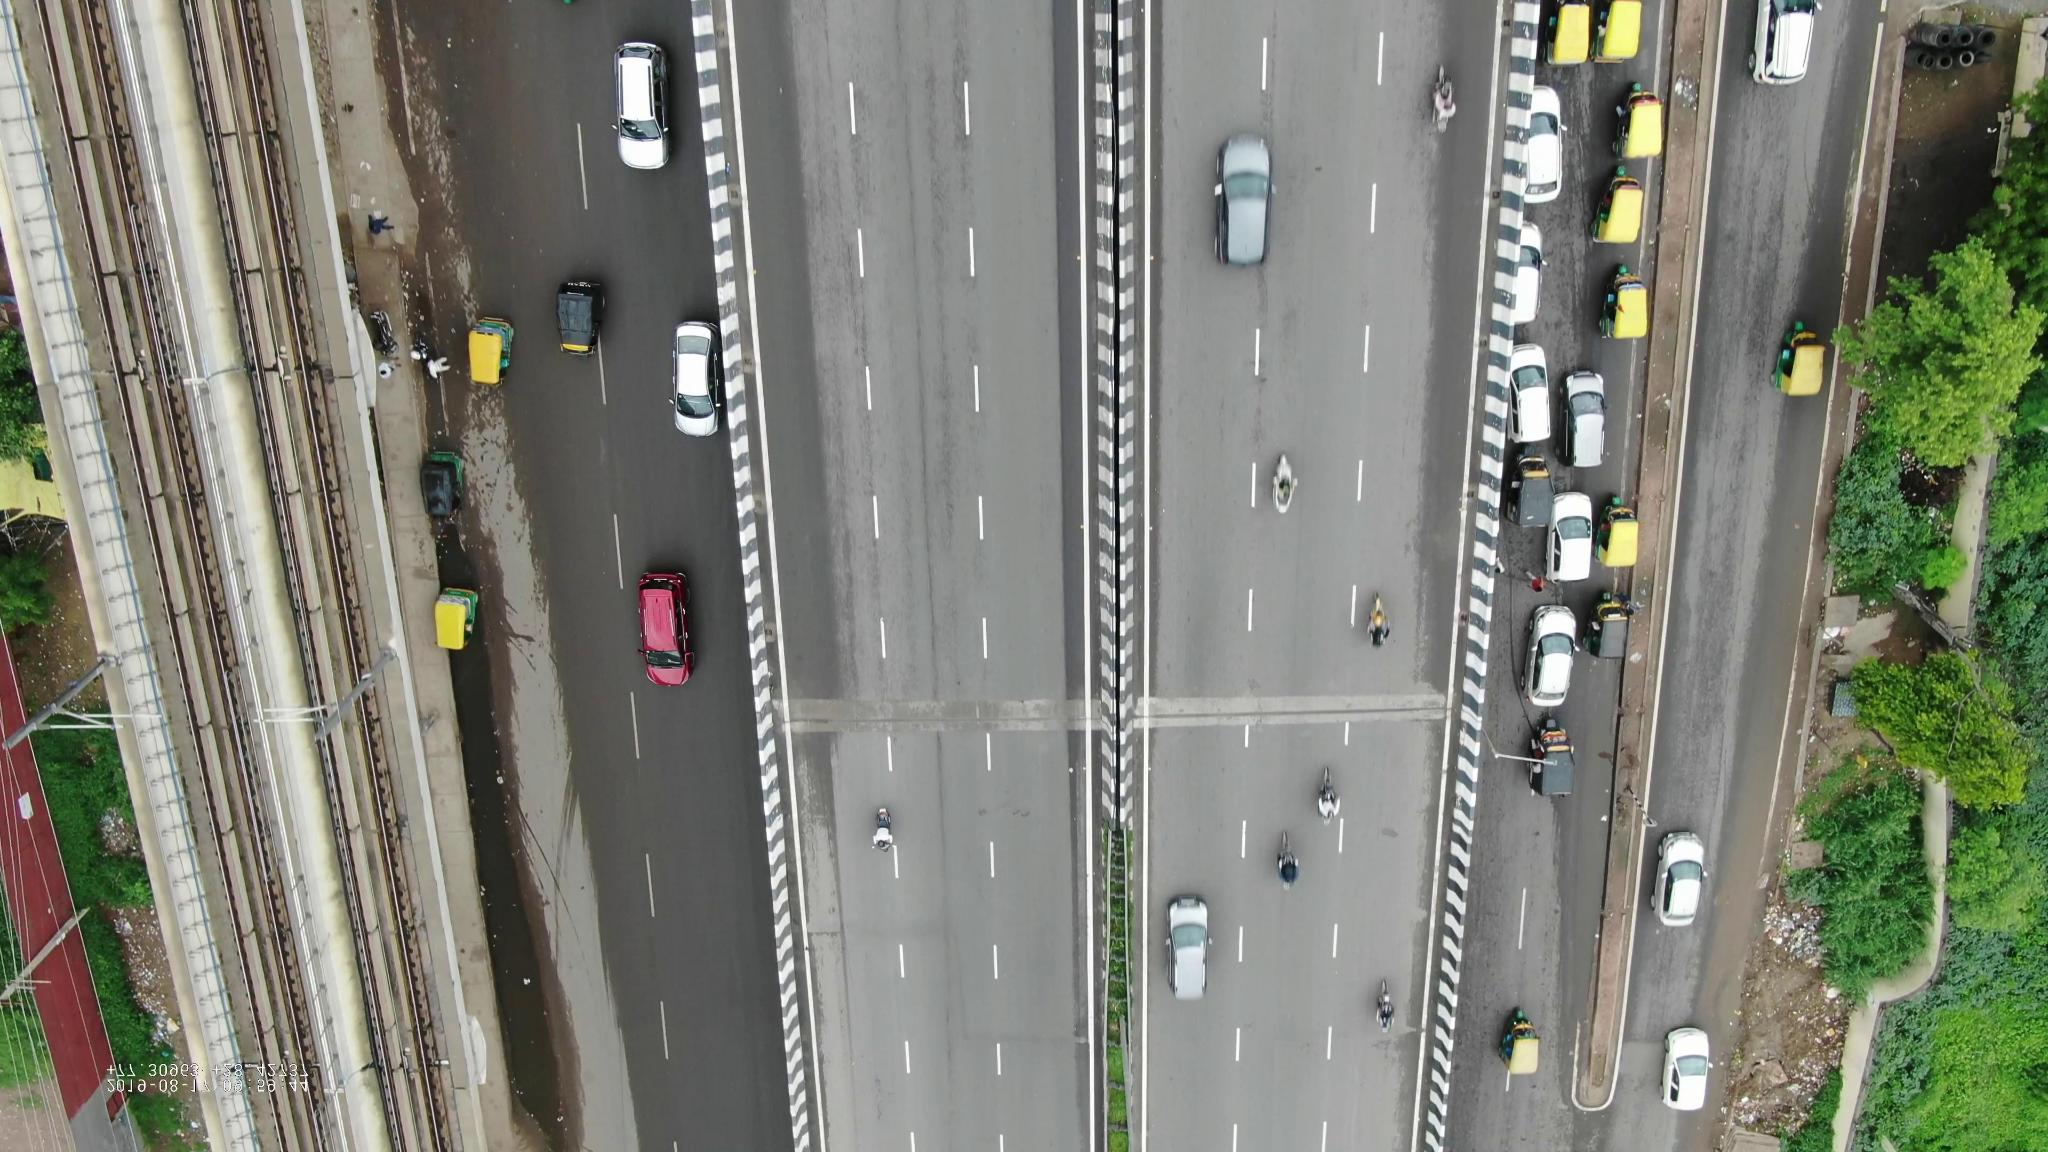Road_side_garbage: (1722, 916, 1858, 1138)
Waterlogging: (481, 904, 582, 1139), (1706, 761, 1802, 947), (1556, 800, 1627, 1027), (459, 727, 511, 803), (471, 820, 530, 886), (452, 653, 502, 716), (412, 378, 460, 426)
